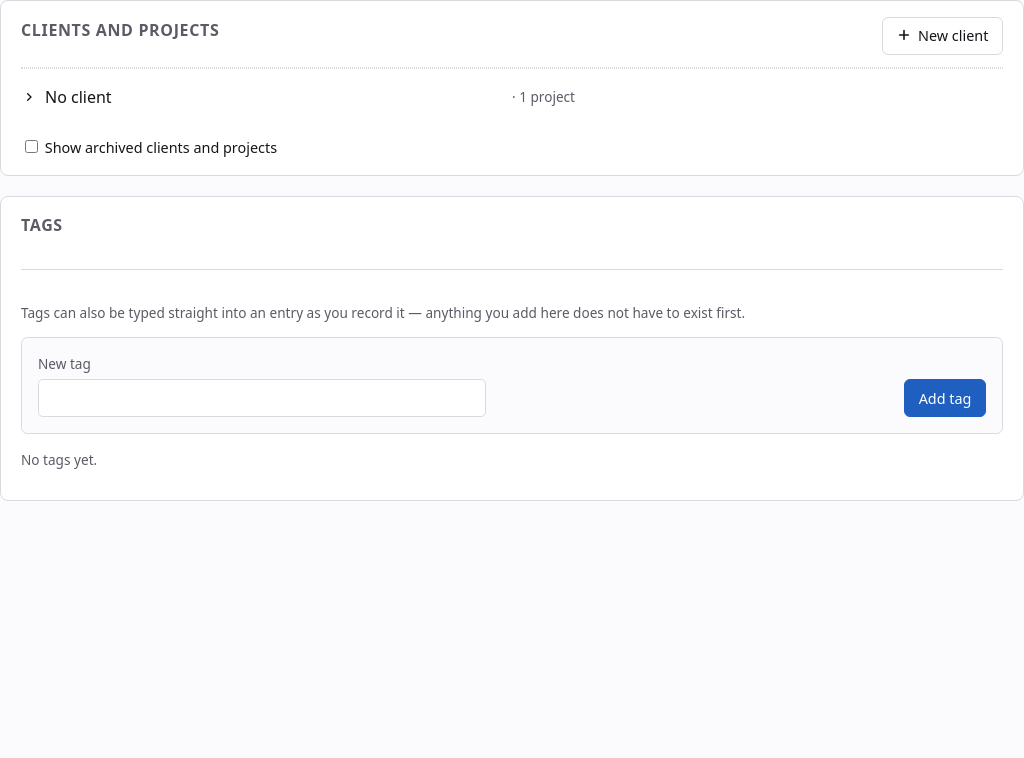
Test: colour choice (0005 P3–P4) › offers the accessible palette rather than a free colour wheel
Click the button with class "taxonomy-group-toggle" at (78, 97), box [21,77,500,117]
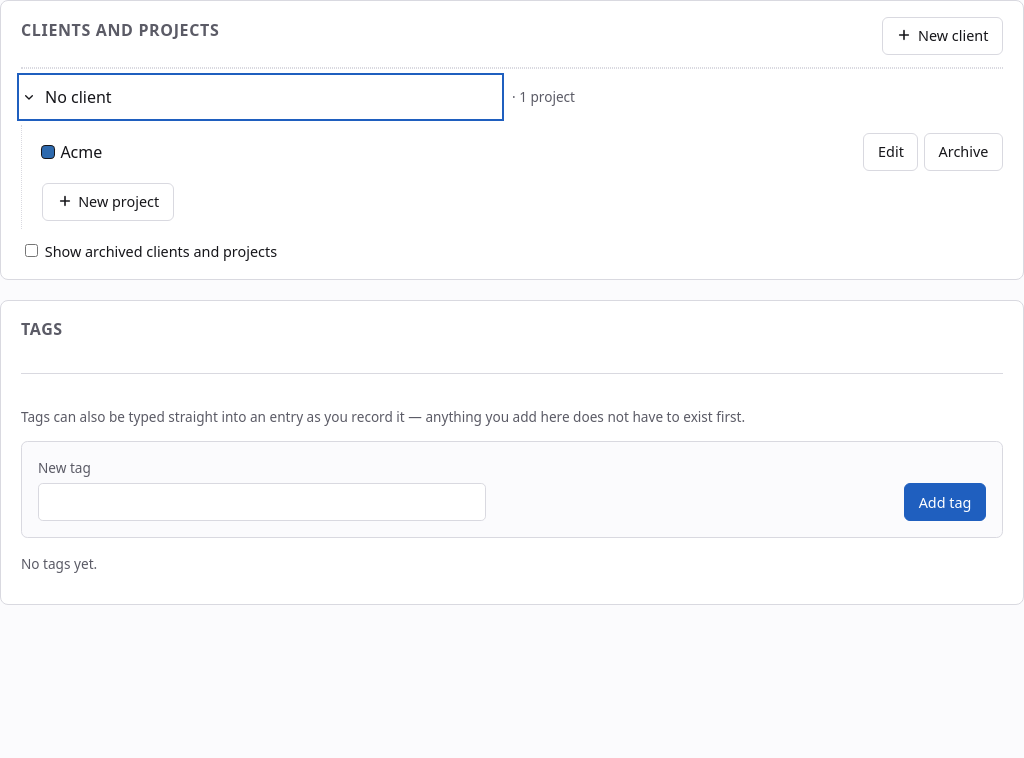
Click the button "Edit" at (891, 152), box [864,133,918,171]
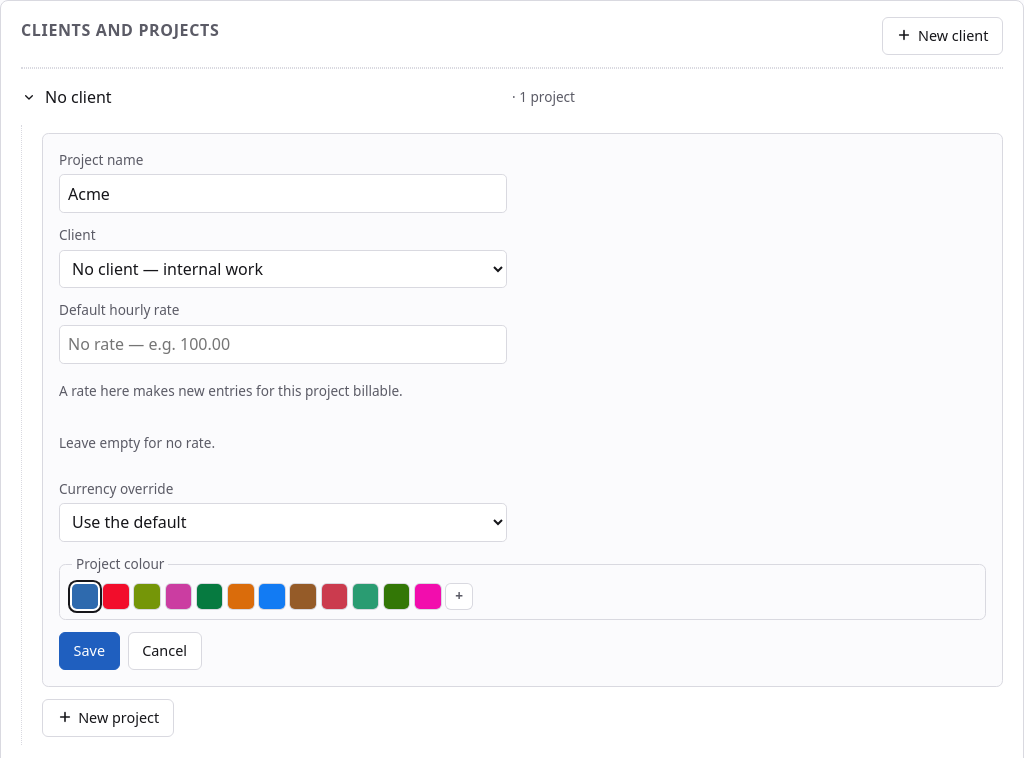
Now the radio button named "Project colour: #2e6aae" is checked, box [72,584,98,609]
